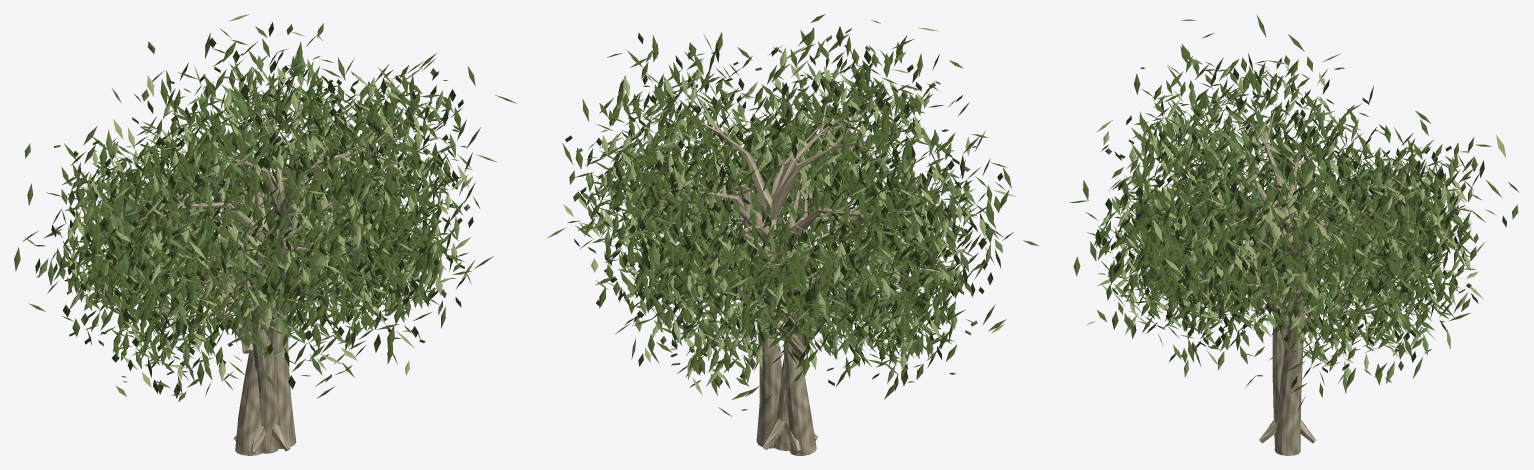
The model's file is small-multistem-a-packed.glb.
3 views of the same model, side by side, from view 1: azimuth 30°, elevation 25°; view 2: azimuth 150°, elevation 25°; view 3: azimuth 270°, elevation 25° (orthographic). The views are drawn at different scales.
Parts seen in each view (by area): view 1: small-multistem-a; view 2: small-multistem-a; view 3: small-multistem-a.
Part boxes in pixels (x1,y1,x2,y2): small-multistem-a: (14,14,516,455); small-multistem-a: (547,14,1038,455); small-multistem-a: (1069,14,1518,455).
Size of the model in its own units: 4.16 by 3.81 by 3.99.
Materials: 4 (2 with a texture image).
